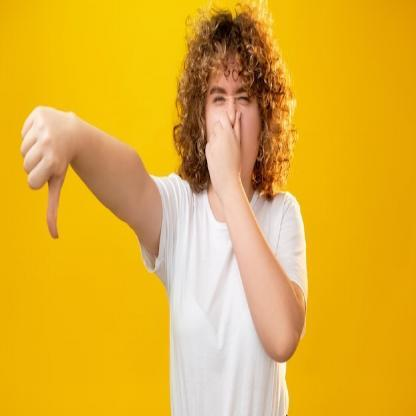thumb_down: (18, 100, 70, 244)
